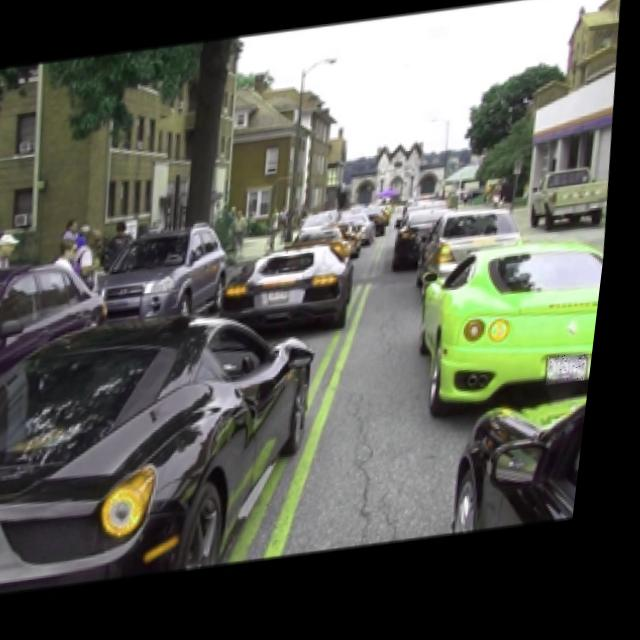license_plate: (556, 362, 602, 395)
